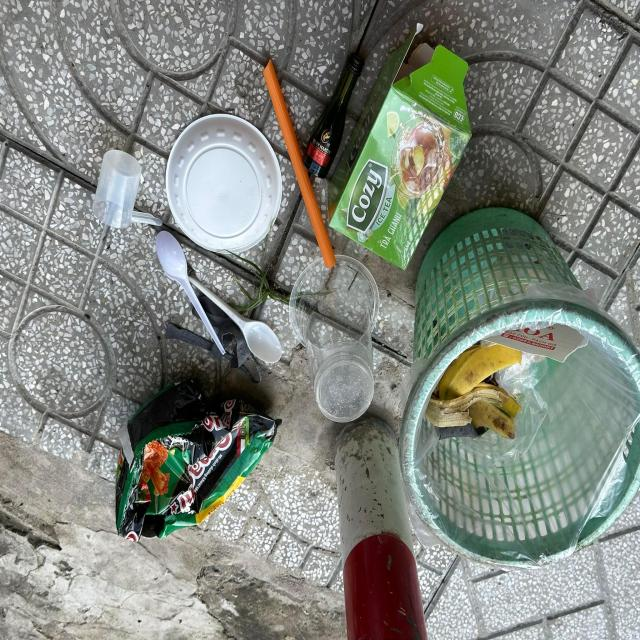bottle: (303, 52, 364, 178)
cardboard box: (328, 21, 472, 271)
drinking straw: (263, 60, 338, 270)
plastic glass: (289, 254, 379, 423)
plastic holder: (166, 114, 284, 254)
plastic utensil: (156, 230, 225, 354), (187, 276, 282, 363), (92, 150, 162, 228)
snack package: (115, 380, 282, 540)
